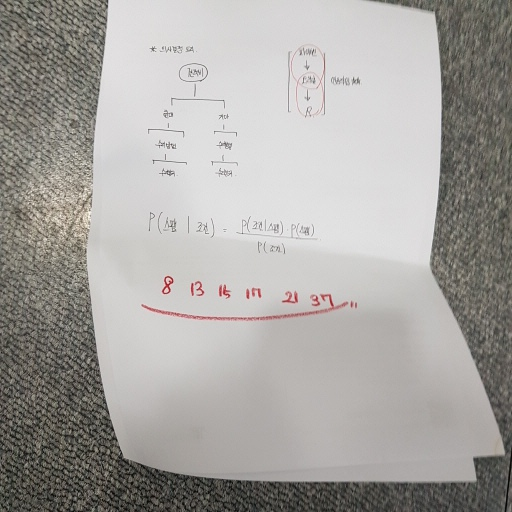Paper_3: (87, 1, 512, 503)
